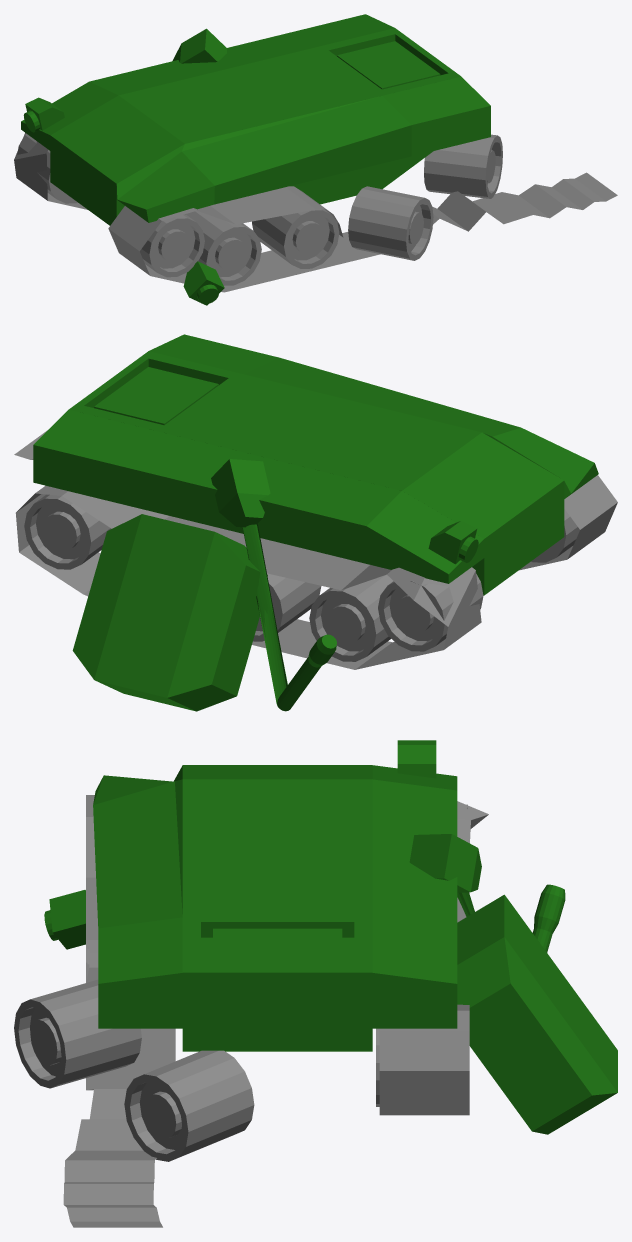
The model's file is tankTank1Destroyed.glb.
3 renders of one model, top to bottom at view 1: azimuth 30°, elevation 25°; view 2: azimuth 150°, elevation 25°; view 3: azimuth 270°, elevation 25°, orthographic. The views are drawn at different scales.
Visible parts, largest first — view 1: Cube.012, Cylinder.001, Cube.014; view 2: Cube.012, Cylinder.001, Cube.013, Cube.014; view 3: Cube.012, Cylinder.001, Cube.013, Cube.014.
Boxes of the visible parts, x1,y1,x2,y2 form: Cube.012: [21, 14, 490, 305]; Cylinder.001: [14, 133, 617, 292]; Cube.014: [172, 28, 227, 63]; Cube.012: [33, 334, 598, 595]; Cylinder.001: [14, 430, 617, 669]; Cube.013: [72, 514, 267, 711]; Cube.014: [211, 459, 336, 711]; Cube.012: [44, 740, 457, 1051]; Cylinder.001: [14, 795, 488, 1227]; Cube.013: [457, 894, 617, 1134]; Cube.014: [409, 834, 565, 952].
Size of the model in its own units: 14.56 by 5.39 by 11.21.
